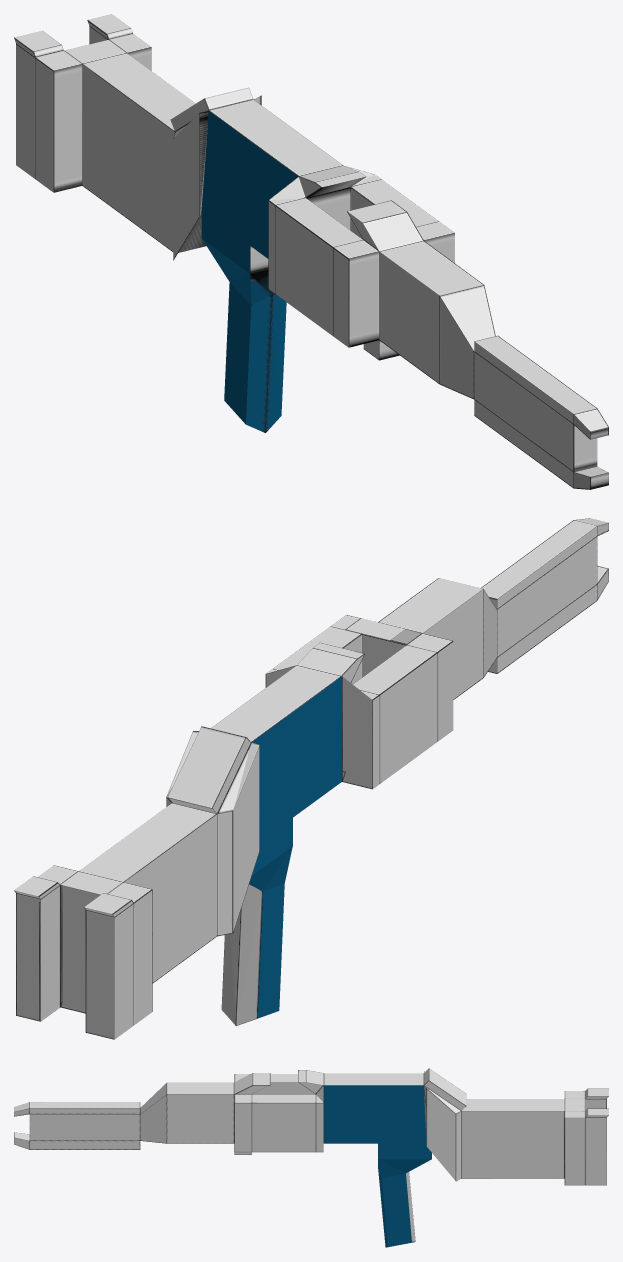
The model's file is lightTest.dae.
3 views of the same model, one above another, from view 1: azimuth 30°, elevation 25°; view 2: azimuth 150°, elevation 25°; view 3: azimuth 270°, elevation 25° (orthographic). The views are drawn at different scales.
Parts seen in each view (by area): view 1: Cube; view 2: Cube; view 3: Cube.
Part boxes in pixels (<box>): Cube: <box>14,14,608,489</box>; Cube: <box>14,518,608,1039</box>; Cube: <box>14,1068,608,1247</box>.
Size of the model in its own units: 1.26 by 10.99 by 3.53.
